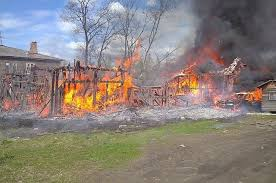fire: (18, 62, 240, 114)
